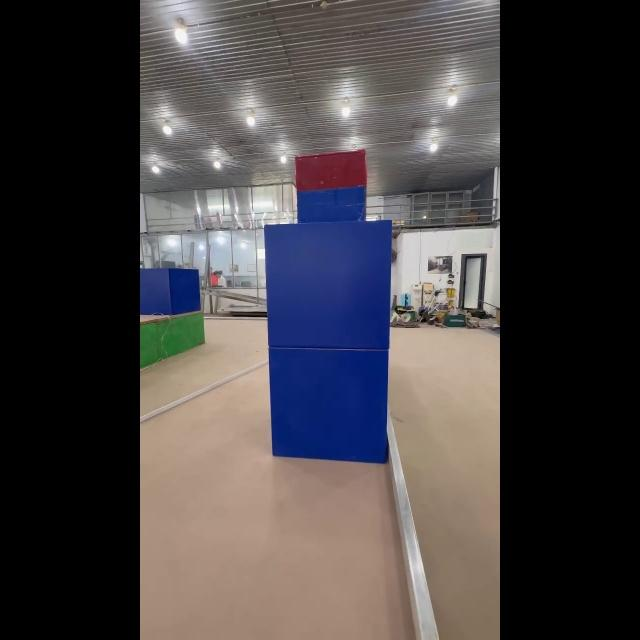earth_block: (261, 220, 394, 350), (264, 348, 392, 465)
sky_block: (289, 149, 375, 224)
